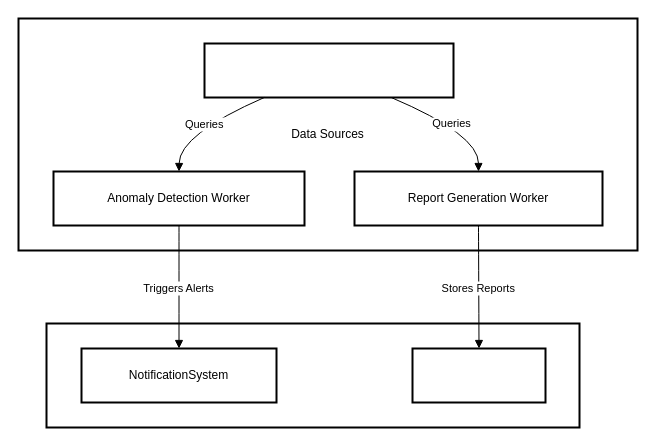
Image size: 655x445. Some labels were removed from this diagram. The shapes that lost their labels are listed below. From the top down, each one's centre as x and y in pixels, then its label:
the point at 328,70: InfluxDB: Raw Sensor Data
the point at 478,375: ReportsDB
